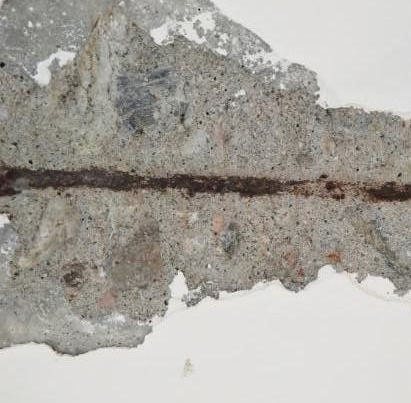Exposed reinforcement: (1, 160, 411, 203)
Spalling: (1, 1, 411, 357)
